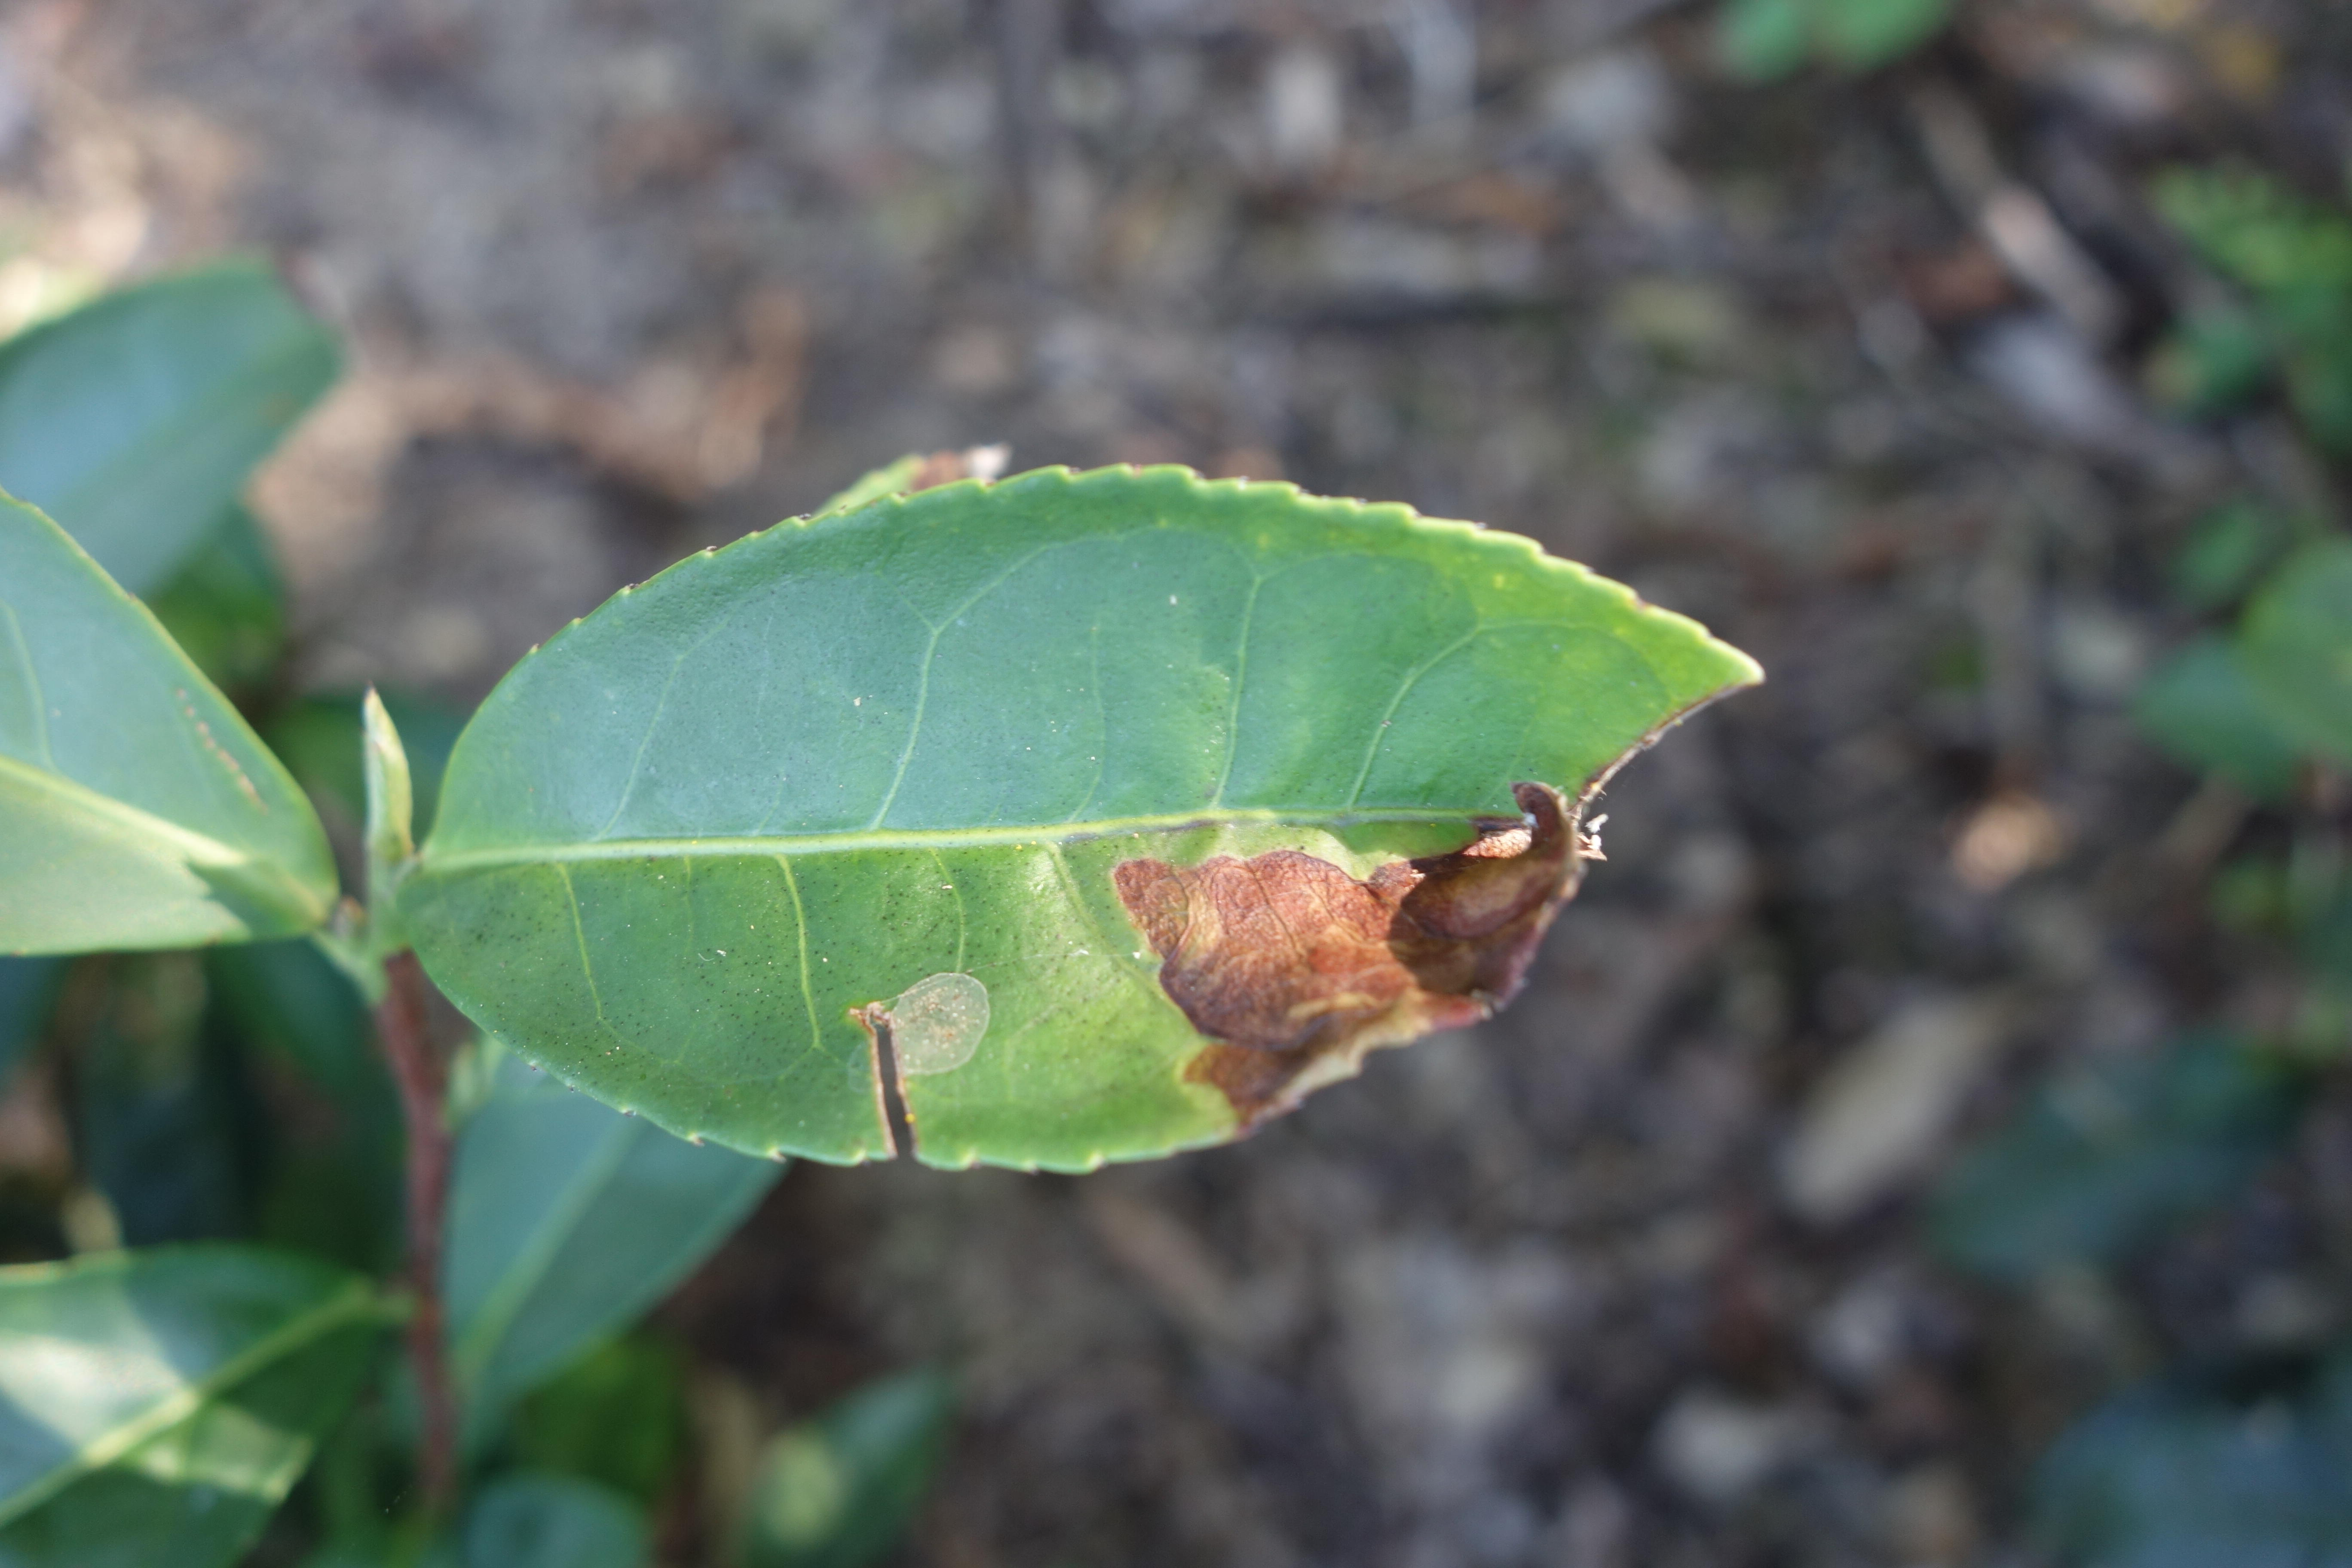tanju_high: (408, 460, 1766, 1179)
